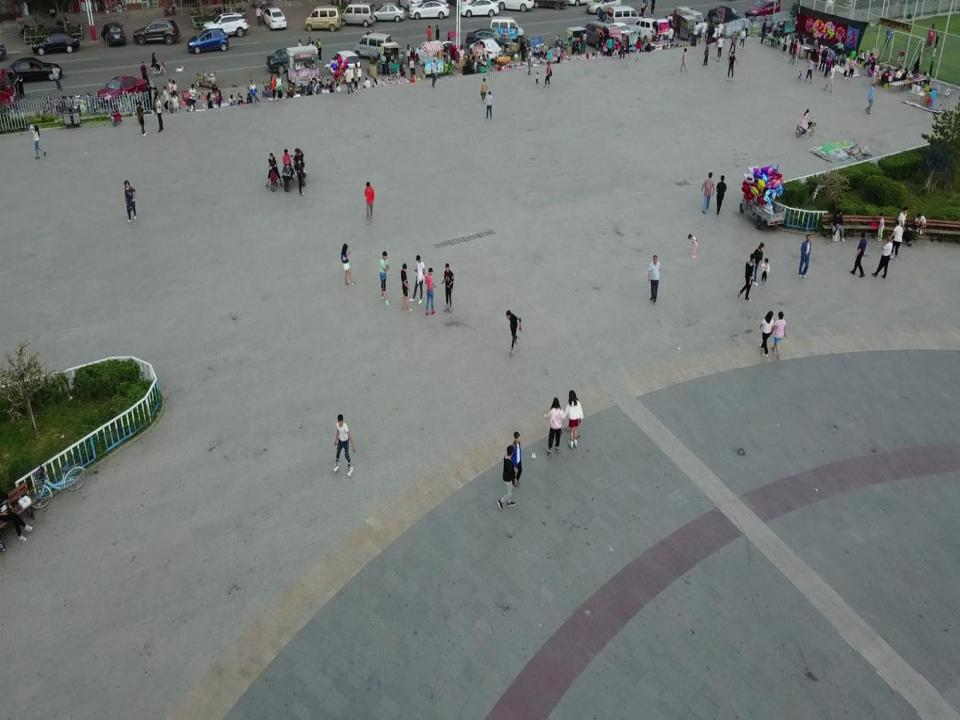car: (96, 75, 146, 108), (1, 57, 61, 81), (133, 18, 180, 44), (203, 12, 248, 38), (32, 32, 80, 55), (187, 28, 229, 54), (264, 47, 306, 72), (331, 49, 362, 81), (465, 27, 508, 50), (709, 4, 746, 26), (408, 0, 450, 19), (415, 40, 446, 64), (469, 40, 501, 61), (744, 0, 781, 18), (458, 0, 499, 16), (100, 22, 126, 45), (262, 7, 286, 30), (632, 18, 658, 39), (372, 5, 404, 22)
truck: (502, 36, 543, 57)
van: (353, 30, 393, 61), (585, 21, 621, 51), (675, 4, 706, 38), (304, 6, 341, 32), (339, 2, 375, 27), (489, 16, 523, 40), (606, 6, 641, 27)
